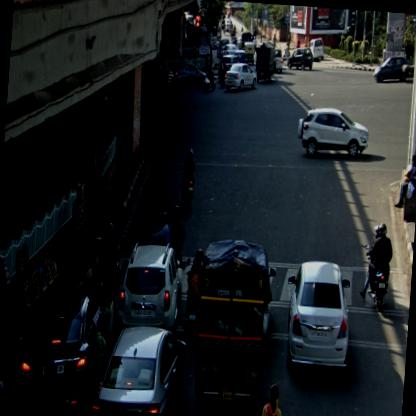car: (18, 289, 100, 408), (280, 260, 354, 380), (92, 324, 188, 414), (112, 239, 186, 339), (294, 103, 371, 163), (166, 61, 206, 93), (223, 61, 259, 95), (372, 55, 410, 86), (285, 46, 314, 73), (306, 37, 324, 64)
motorcycle: (358, 222, 394, 314), (92, 222, 126, 316), (182, 247, 204, 343), (178, 148, 198, 210), (151, 67, 170, 96), (202, 63, 216, 92)
truck: (190, 236, 271, 415), (254, 40, 276, 84)
